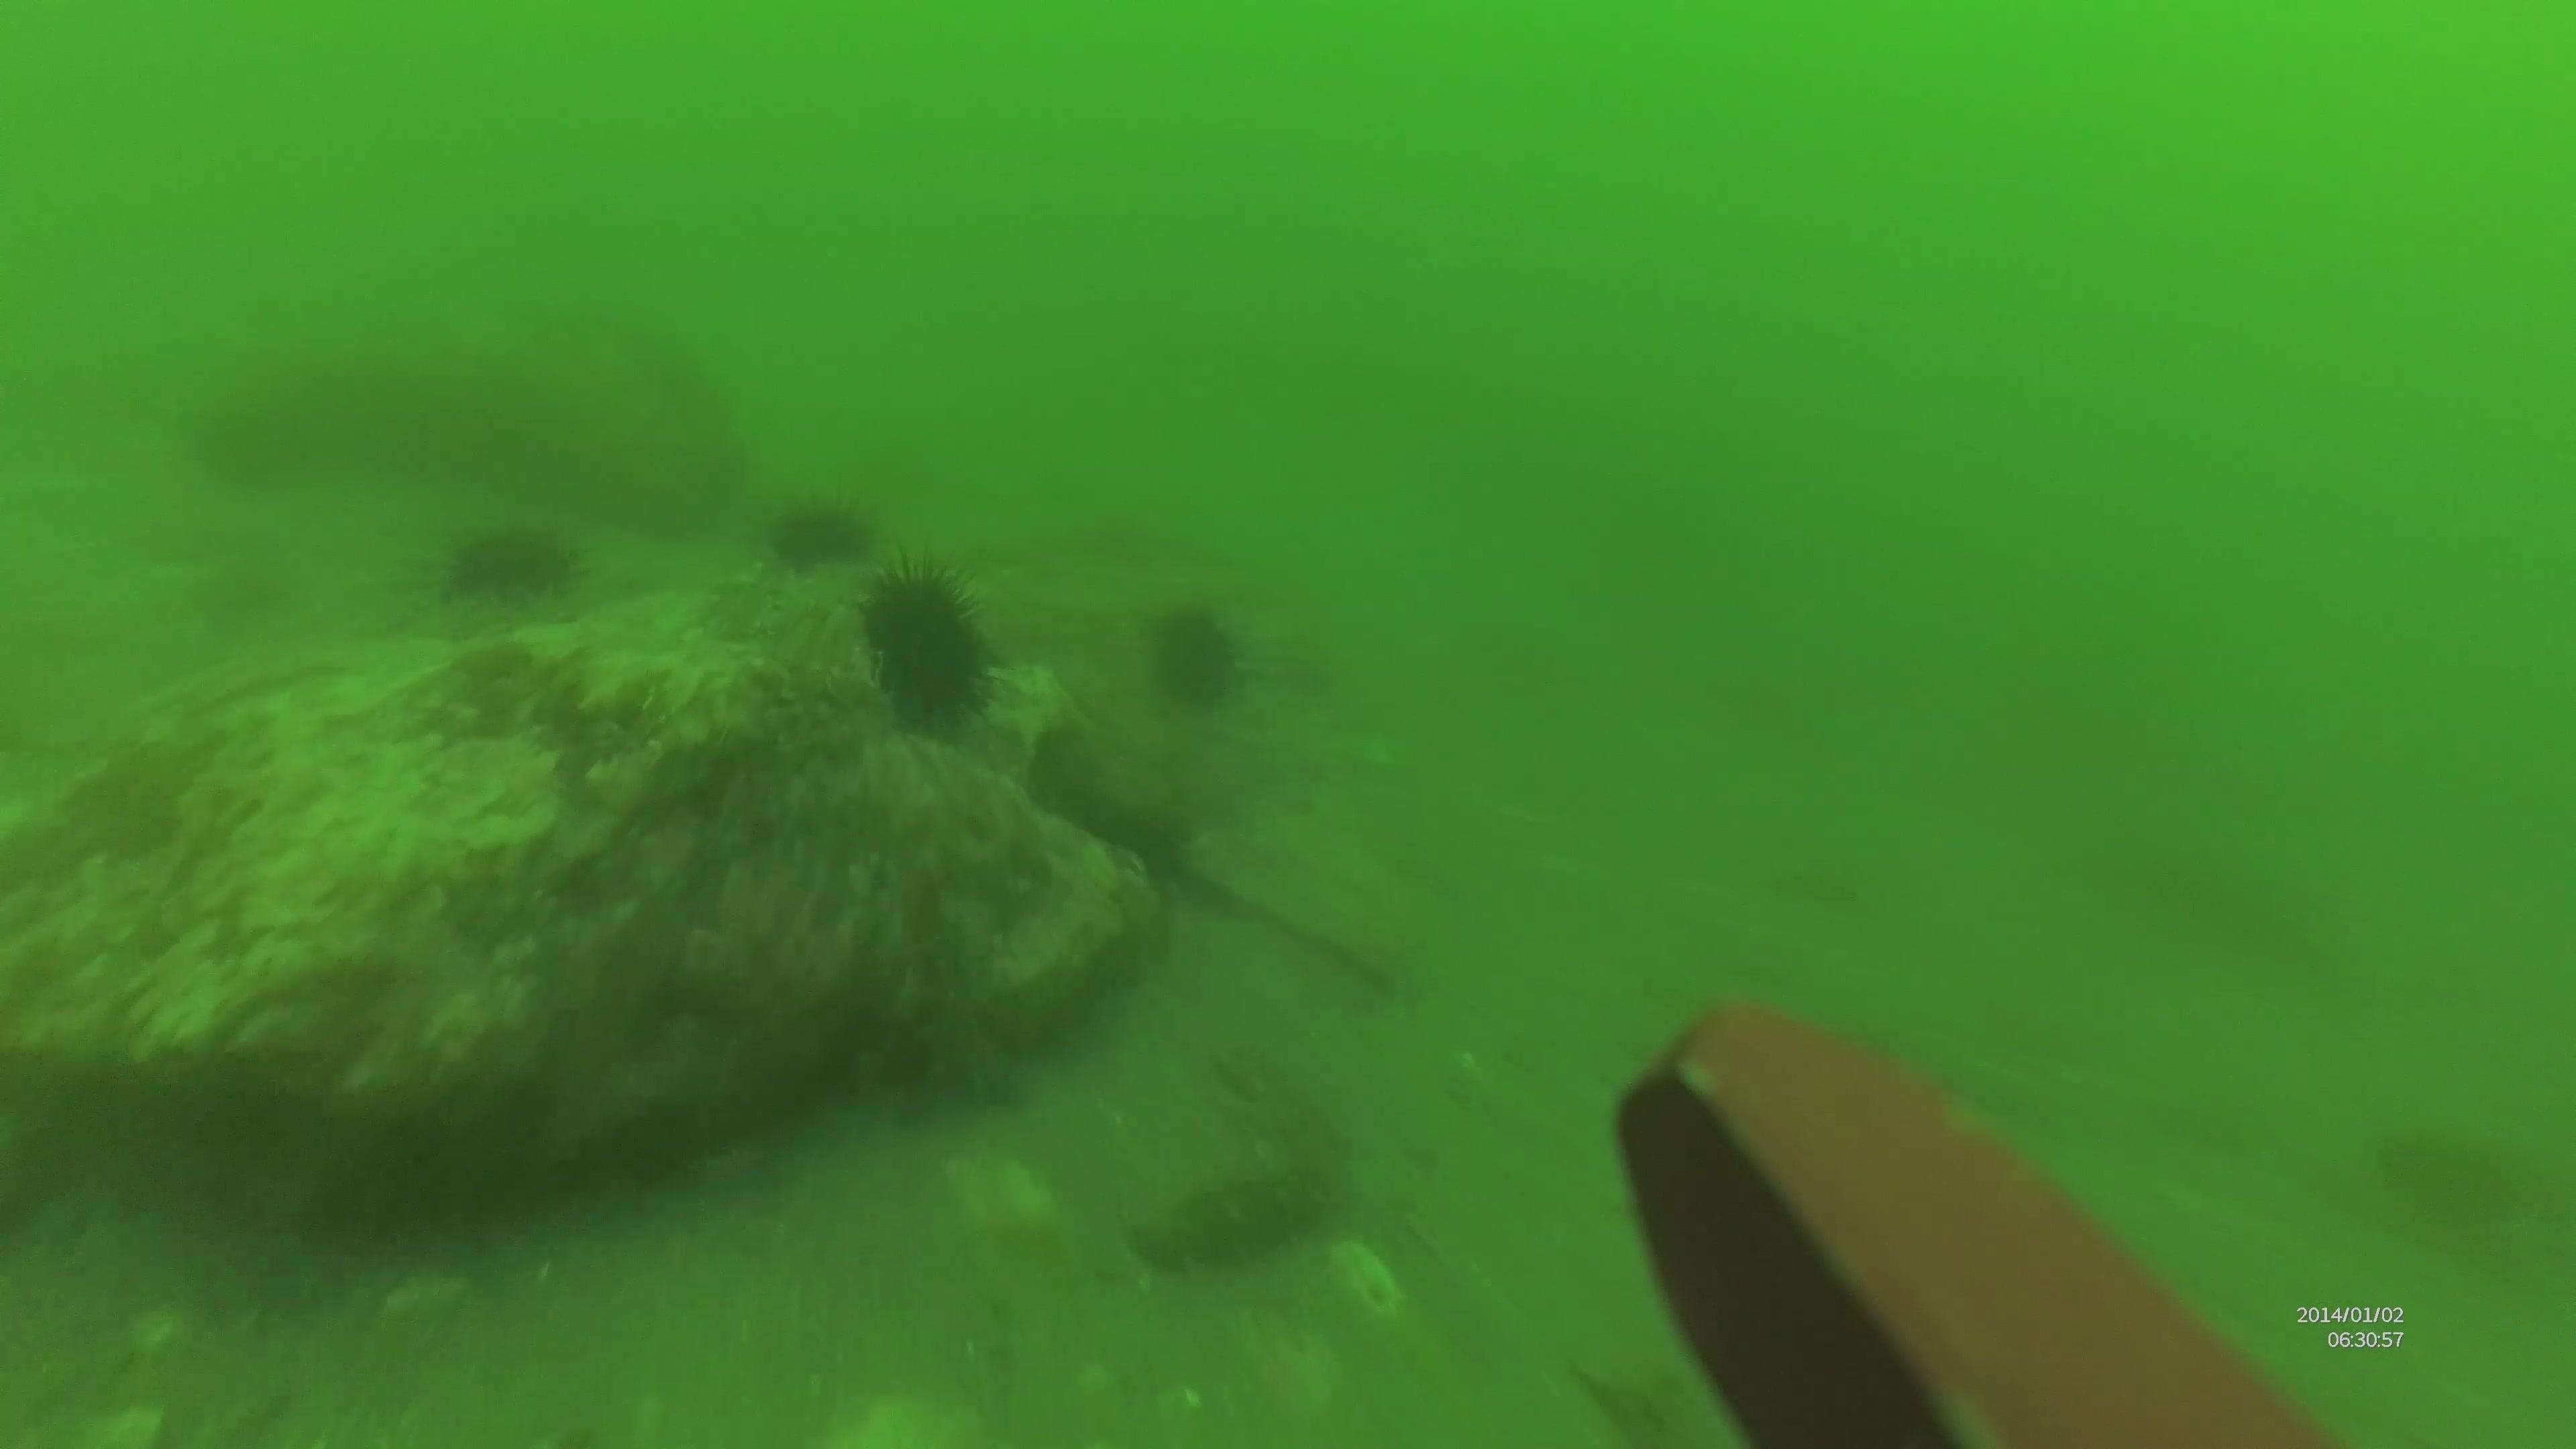echinus: (851, 550, 1008, 736), (430, 511, 589, 619), (1136, 594, 1254, 717), (757, 485, 883, 580)
holothurian: (1122, 1143, 1350, 1279)
